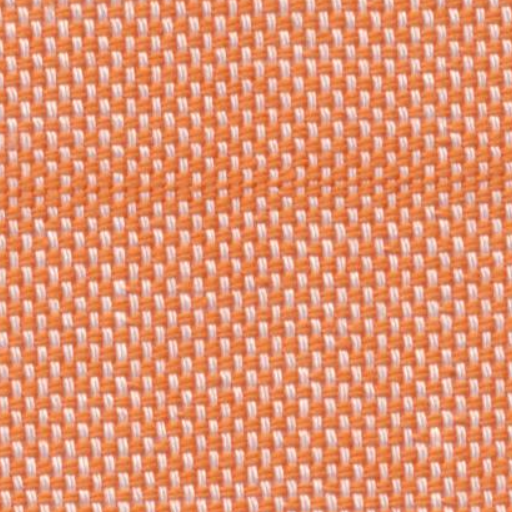TuoSha: (9, 138, 490, 226)
